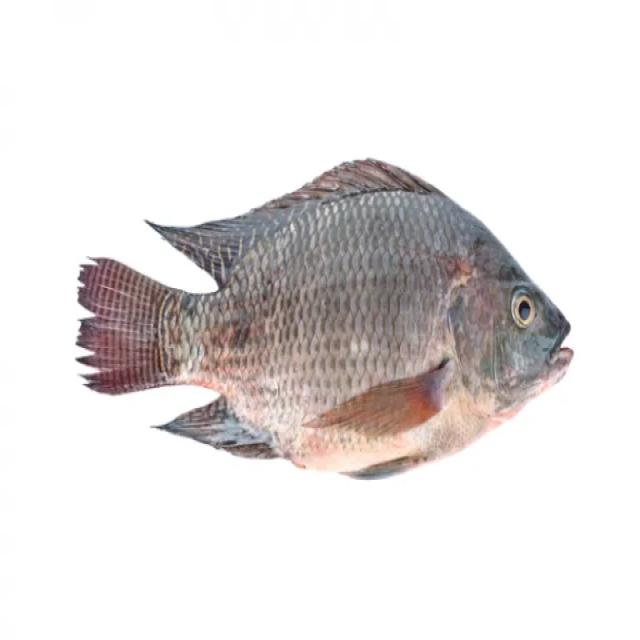Tilapia: (74, 156, 574, 483)
